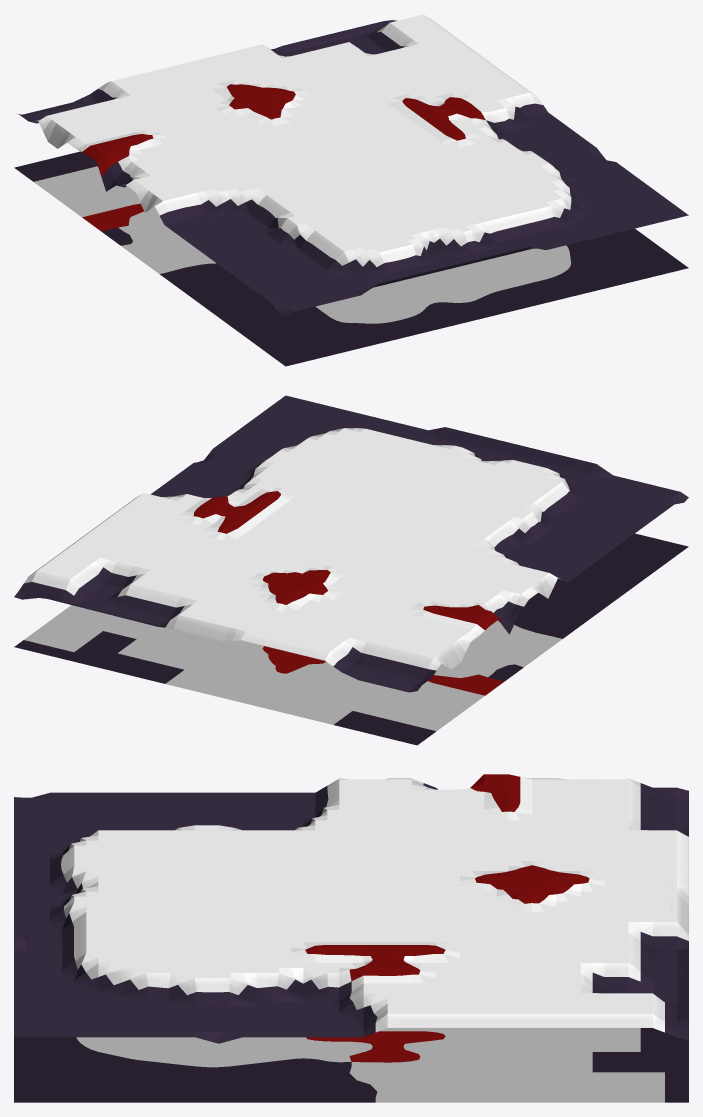
Rendered from delbld-hull-583.glb.
3 renders of one model, top to bottom at view 1: azimuth 30°, elevation 25°; view 2: azimuth 150°, elevation 25°; view 3: azimuth 270°, elevation 25°, orthographic. The views are drawn at different scales.
Visible parts, largest first — view 1: delbld-hull-583; view 2: delbld-hull-583; view 3: delbld-hull-583.
Part boxes in pixels (x1,y1,x2,y2): delbld-hull-583: (14, 14, 688, 366); delbld-hull-583: (14, 395, 688, 745); delbld-hull-583: (14, 774, 688, 1102).
Size of the model in its own units: 2 by 0.34 by 2.33.
5 materials, 4 textured.
